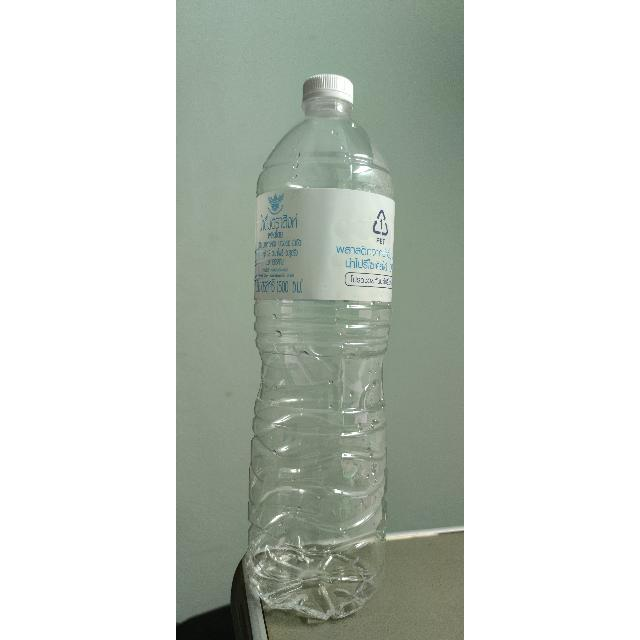Botella de plastico: (240, 75, 397, 627)
